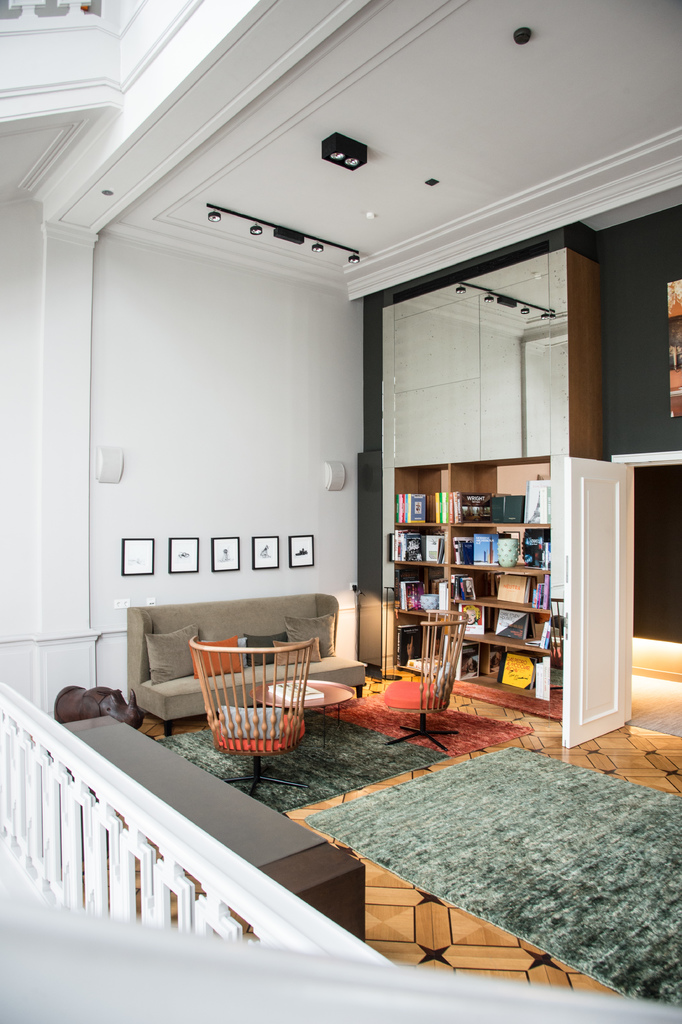Cabinetry: (49, 715, 369, 946)
